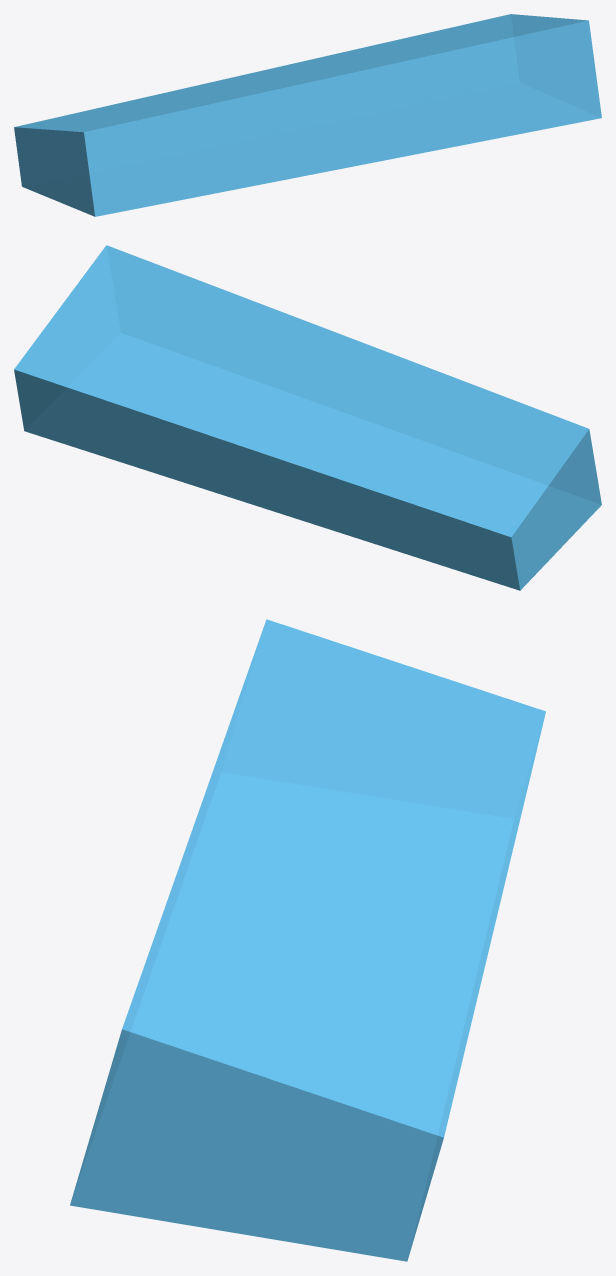
The model's file is Event_421364160_HErechit_64.fbx.
The picture shows the model from 3 angles, top to bottom: view 1: azimuth 30°, elevation 25°; view 2: azimuth 150°, elevation 25°; view 3: azimuth 270°, elevation 25°; orthographic projection. The views are drawn at different scales.
Visible parts, largest first — view 1: Model; view 2: Model; view 3: Model.
Part boxes in pixels (x1=…): Model: x1=14, y1=14, x2=601, y2=216; Model: x1=14, y1=245, x2=601, y2=590; Model: x1=70, y1=619, x2=545, y2=1261.
Size of the model in its own units: 1.71 by 0.4287 by 0.7481.
